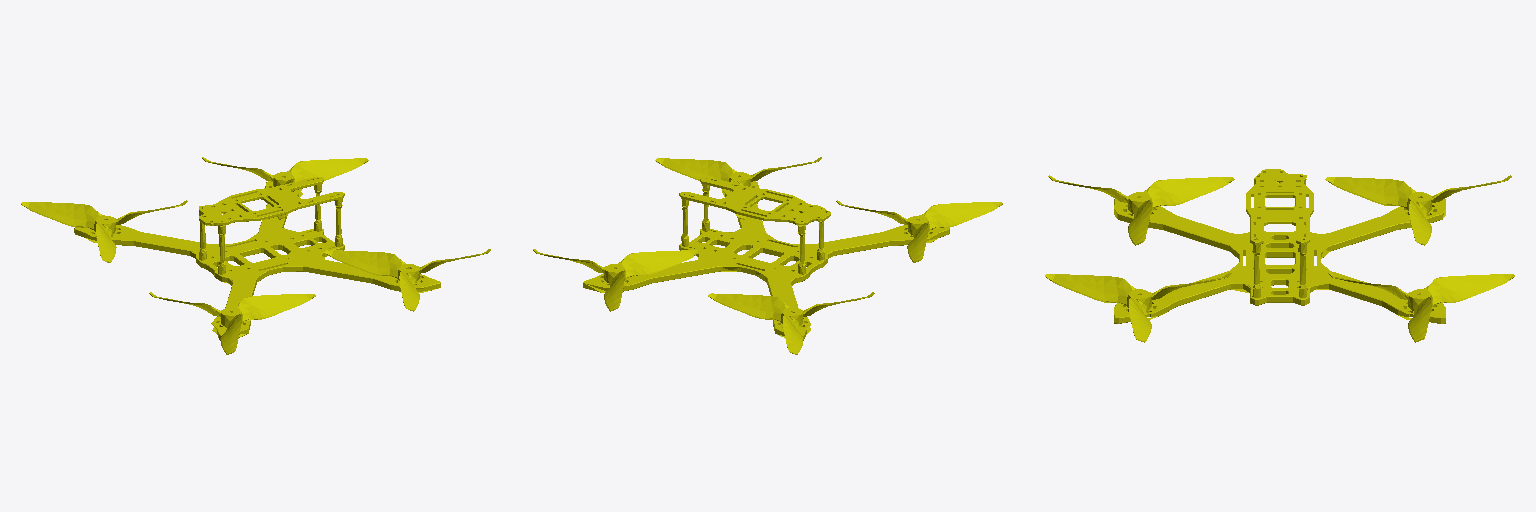
URDF robot description (puzzle_drone):
<?xml version="1.0"?>

<robot name="puzzle_drone">

   <link name="base_link">
        <visual>
            <origin xyz="0 0 -0.0205" rpy="1.57 0 1.57"/>
            <geometry>
                <mesh filename="package://link_act/meshes/base_210mm.stl"/>  
            </geometry>
            <material name="yellow">
                <color rgba="0.8 0.8 0.05 1.0"/>
            </material>
        </visual>
    </link>


   <link name="prop_1">
        <visual>
            <origin xyz="0 0 -0.004" rpy="0 0 0"/>
            <geometry>
                <mesh filename="package://link_act/meshes/propeller_ccw_puller_5in.stl"/>
            </geometry>
            <material name="yellow">
                <color rgba="0.8 0.8 0.05 1.0"/>
            </material>
        </visual>
    </link>

  <link name="prop_2">
        <visual>
            <origin xyz="0 0 -0.004" rpy="0 0 0"/>
            <geometry>
                <mesh filename="package://link_act/meshes/propeller_cw_puller_5in.stl"/>
            </geometry>
            <material name="yellow">
                <color rgba="0.8 0.8 0.05 1.0"/>
            </material>
        </visual>
    </link>

    <link name="prop_3">
        <visual>
            <origin xyz="0 0 -0.004" rpy="0 0 0"/>
            <geometry>
                <mesh filename="package://link_act/meshes/propeller_ccw_puller_5in.stl"/>
            </geometry>
            <material name="yellow">
                <color rgba="0.8 0.8 0.05 1.0"/>
            </material>
        </visual>
    </link>

    <link name="prop_4">
        <visual>
            <origin xyz="0 0 -0.004" rpy="0 0 0"/>
            <geometry>
                <mesh filename="package://link_act/meshes/propeller_cw_puller_5in.stl"/>
            </geometry>
            <material name="yellow">
                <color rgba="0.8 0.8 0.05 1.0"/>
            </material>
        </visual>
    </link>


    <joint name="prop1_joint" type="continuous">
        <parent link="base_link"/> 
        <child link="prop_1"/> 
        <origin xyz="0.06717 0.082 -0.0125" rpy="0 0 0"/>
        <axis xyz="0 0 1"/> 
    </joint>

    <joint name="prop2_joint" type="continuous">
        <parent link="base_link"/> 
        <child link="prop_2"/> 
        <origin xyz="-0.06717 0.082 -0.0125" rpy="0 0 0"/>
        <axis xyz="0 0 1"/> 
    </joint>

    <joint name="prop3_joint" type="continuous">
        <parent link="base_link"/> 
        <child link="prop_3"/> 
        <origin xyz="-0.06717 -0.082 -0.0125" rpy="0 0 0"/>
        <axis xyz="0 0 1"/> 
    </joint>

    <joint name="prop4_joint" type="continuous">
        <parent link="base_link"/> 
        <child link="prop_4"/> 
        <origin xyz="0.06717 -0.082 -0.0125" rpy="0 0 0"/>
        <axis xyz="0 0 1"/> 
    </joint>

</robot>

--- Facts derived from the render (not from the file) ---
3 views of the same robot in one strip: view 1: azimuth 30°, elevation 25°; view 2: azimuth 150°, elevation 25°; view 3: azimuth 270°, elevation 25° (orthographic).
Robot: puzzle_drone — 5 links, 4 joints (4 continuous); root link base_link; default pose: all joints at 0.
Links seen in each view (by area): view 1: base_link, prop_3, prop_2, prop_4, prop_1; view 2: base_link, prop_3, prop_1, prop_2, prop_4; view 3: base_link, prop_1, prop_3, prop_4, prop_2.
Link boxes in pixels (left/top/right/bottom): base_link: left=74, top=177, right=440, bottom=340; prop_3: left=149, top=292, right=315, bottom=354; prop_2: left=21, top=200, right=187, bottom=262; prop_4: left=324, top=249, right=490, bottom=311; prop_1: left=202, top=157, right=368, bottom=219; base_link: left=583, top=177, right=949, bottom=340; prop_3: left=836, top=200, right=1002, bottom=262; prop_1: left=533, top=249, right=699, bottom=311; prop_2: left=708, top=292, right=874, bottom=354; prop_4: left=655, top=157, right=821, bottom=219; base_link: left=1114, top=169, right=1445, bottom=323; prop_1: left=1328, top=272, right=1514, bottom=342; prop_3: left=1048, top=175, right=1234, bottom=245; prop_4: left=1045, top=272, right=1231, bottom=342; prop_2: left=1325, top=175, right=1511, bottom=245.
Bounding box of the posed robot: 0.231 × 0.2756 × 0.0411 m (x, y, z).
5 mesh visuals loaded from 3 distinct referenced files (3 binary STL).